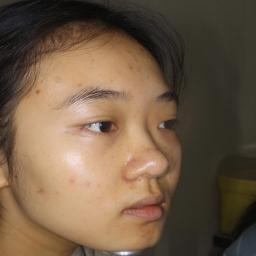ance: (34, 179, 52, 201), (138, 223, 158, 241), (50, 72, 70, 88), (80, 174, 96, 192), (65, 170, 75, 190), (128, 54, 144, 66), (142, 143, 160, 153), (32, 86, 44, 98), (74, 79, 86, 89), (126, 62, 134, 74)
